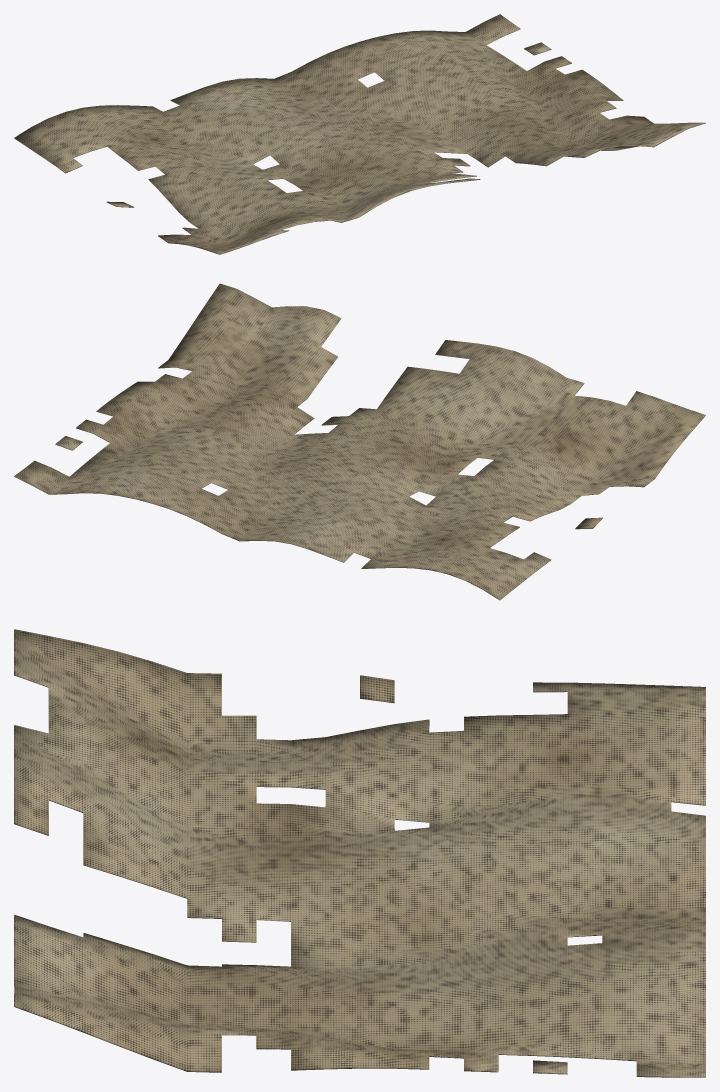
The model's file is PROP_Ship_Sail.fbx.
3 views of the same model, one above another, from view 1: azimuth 30°, elevation 25°; view 2: azimuth 150°, elevation 25°; view 3: azimuth 270°, elevation 25° (orthographic). The views are drawn at different scales.
Visible parts, largest first — view 1: PROP_Ship_Sail; view 2: PROP_Ship_Sail; view 3: PROP_Ship_Sail.
Part boxes in pixels (<box>): PROP_Ship_Sail: <box>14,14,705,254</box>; PROP_Ship_Sail: <box>14,283,705,600</box>; PROP_Ship_Sail: <box>14,629,705,1077</box>.
Size of the model in its own units: 7.5 by 0.867 by 5.51.
